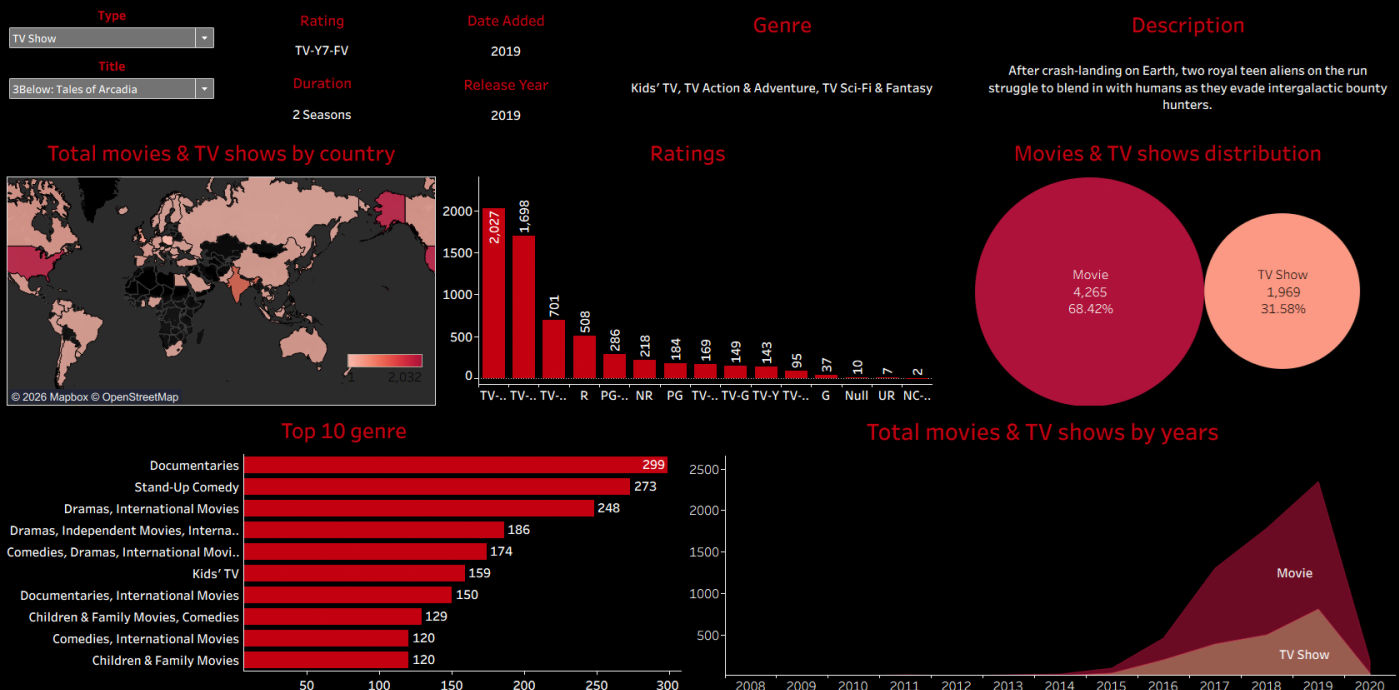

This screenshot's page, from the dashboard's own definition file:
{"tool":"tableau","page":{"name":"Netflix","canvas":[1000,1000],"units":"permille","ordinal":0},"visuals":[{"type":"filter","title":"Description","param":"[federated.15hw8pk1j071uo13alzb90df5k8i].[none:type:nk]","box":[4.9,9.4,153.7,71.7]},{"type":"worksheet","title":"Rating","mark":"Automatic","box":[158.6,9.4,144.8,88.1]},{"type":"worksheet","title":"Date Added","mark":"Automatic","box":[303.4,9.4,115.9,90.5]},{"type":"worksheet","title":"Genre","mark":"Automatic","box":[419.3,9.4,276.1,181]},{"type":"worksheet","title":"Description","mark":"Automatic","box":[695.4,9.4,299.7,181]},{"type":"filter","title":"Description","param":"[federated.15hw8pk1j071uo13alzb90df5k8i].[none:title:nk]","box":[4.9,81.1,153.7,71.7]},{"type":"worksheet","title":"Duration","mark":"Automatic","box":[158.6,97.5,144.8,92.8]},{"type":"worksheet","title":"Release Year","mark":"Automatic","box":[303.4,99.9,115.9,90.5]},{"type":"worksheet","title":"Total movies&Tv shows by country","mark":"Multipolygon","box":[4.9,190.4,309.2,391.3]},{"type":"worksheet","title":"Ratings","mark":"Automatic","rows":["show_id"],"cols":["rating"],"box":[314.1,190.4,352.3,391.3]},{"type":"worksheet","title":"Movies & Tv shows distribution","mark":"Circle","box":[666.4,190.4,328.7,391.3]},{"type":"legend","title":"Total movies&Tv shows by country","param":"[federated.15hw8pk1j071uo13alzb90df5k8i].[ctd:show_id:qk]","box":[246.6,499.4,58,50.5]},{"type":"worksheet","title":"Top 10 genre","mark":"Automatic","rows":["listed_in"],"cols":["show_id"],"box":[4.9,581.7,495,408.9]},{"type":"worksheet","title":"Total movies & Tv shows by years","mark":"Area","rows":["show_id"],"cols":["date_added"],"box":[499.9,581.7,495.2,408.9]}]}

Visuals, with their boxes on the dashboard's canvas, which has no fixed pixel size, in thousandths of its width and height (x1, y1, x2, y2). These are canvas units, not pixel positions in the 1399x690 screenshot, which may show the page scaled, cropped or inside an application window:
"Description" filter: (5, 9, 159, 81)
"Rating" worksheet: (159, 9, 303, 98)
"Date Added" worksheet: (303, 9, 419, 100)
"Genre" worksheet: (419, 9, 695, 190)
"Description" worksheet: (695, 9, 995, 190)
"Description" filter: (5, 81, 159, 153)
"Duration" worksheet: (159, 98, 303, 190)
"Release Year" worksheet: (303, 100, 419, 190)
"Total movies&Tv shows by country" worksheet (Multipolygon marks): (5, 190, 314, 582)
"Ratings" worksheet: (314, 190, 666, 582)
"Movies & Tv shows distribution" worksheet (Circle marks): (666, 190, 995, 582)
"Total movies&Tv shows by country" legend: (247, 499, 305, 550)
"Top 10 genre" worksheet: (5, 582, 500, 991)
"Total movies & Tv shows by years" worksheet (Area marks): (500, 582, 995, 991)
